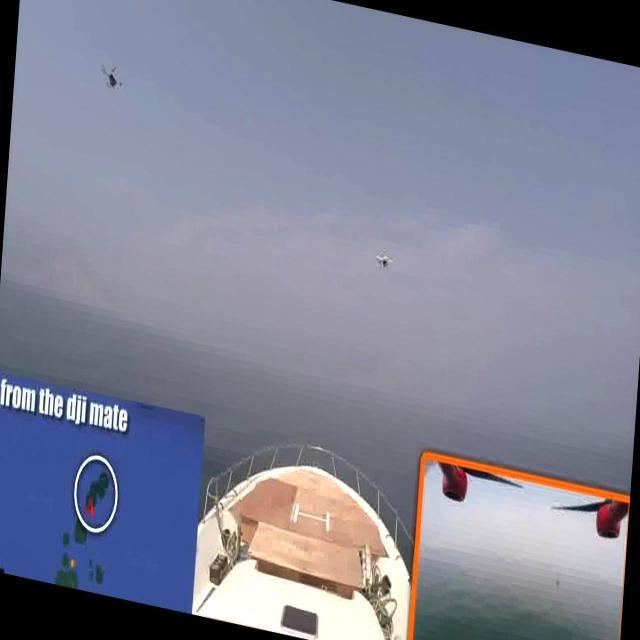drone: (97, 65, 126, 97), (373, 248, 395, 274)
